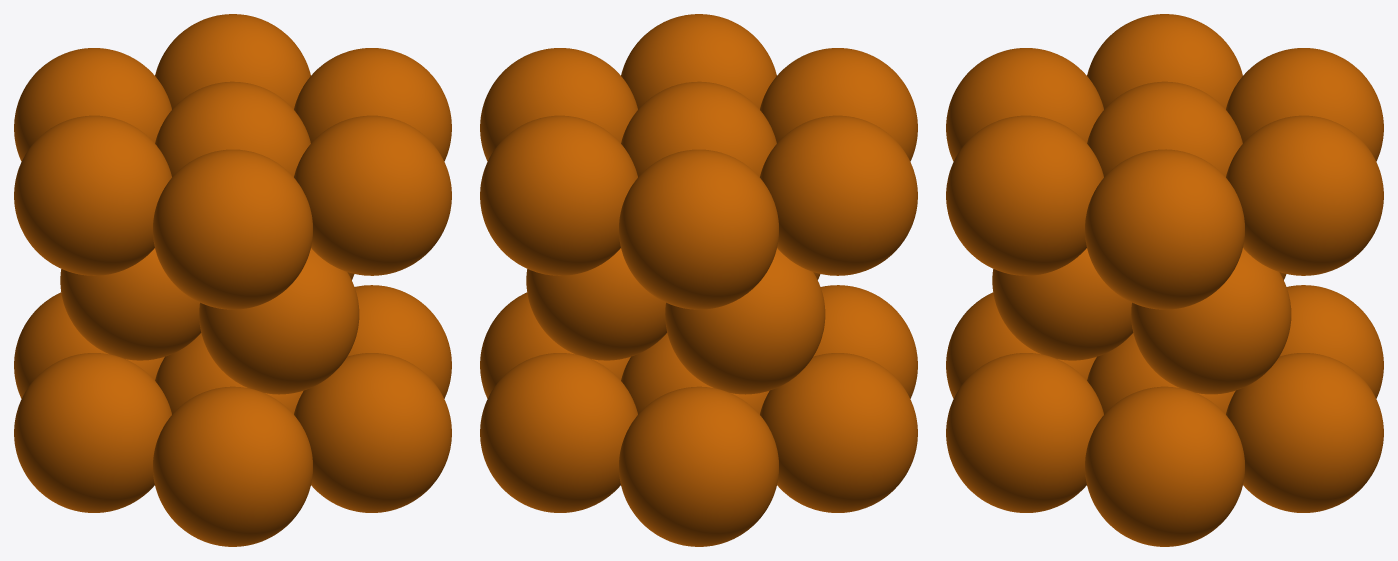
File: HCP_Atoms_Compressed.glb
3 views of the same model, side by side, from view 1: azimuth 30°, elevation 25°; view 2: azimuth 150°, elevation 25°; view 3: azimuth 270°, elevation 25° (orthographic).
Parts seen in each view (by area): view 1: HCP_Atoms; view 2: HCP_Atoms; view 3: HCP_Atoms.
Boxes of the visible parts, x1,y1,x2,y2 form: HCP_Atoms: (14, 14, 451, 546); HCP_Atoms: (480, 14, 917, 546); HCP_Atoms: (946, 14, 1383, 546).
Size of the model in its own units: 1.2 by 1.05 by 1.09.
